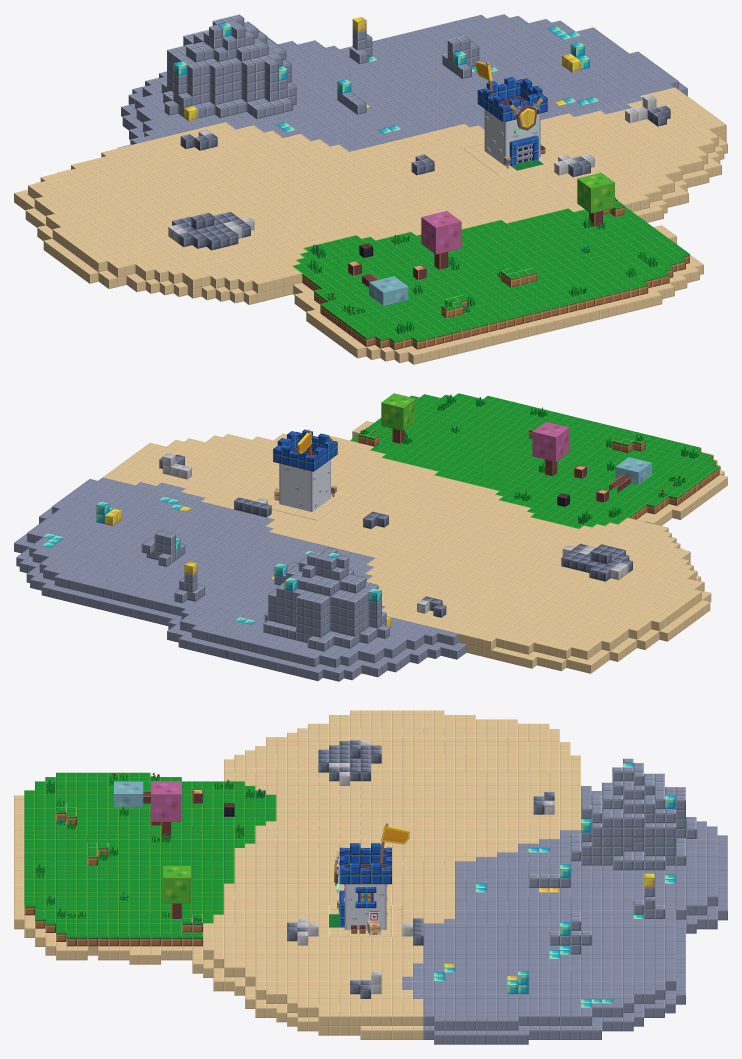
File: Test-Loc.fbx
3 views of the same model, one above another, from view 1: azimuth 30°, elevation 25°; view 2: azimuth 150°, elevation 25°; view 3: azimuth 270°, elevation 25° (orthographic). The views are drawn at different scales.
Visible parts, largest first — view 1: Test_Loc; view 2: Test_Loc; view 3: Test_Loc.
Boxes of the visible parts, x1,y1,x2,y2 form: Test_Loc: (14, 14, 727, 364); Test_Loc: (14, 393, 727, 681); Test_Loc: (14, 710, 727, 1044).
Bounding box in the file's own units: 1800 × 364 × 1700.
Materials: 1 (1 with a texture image).
